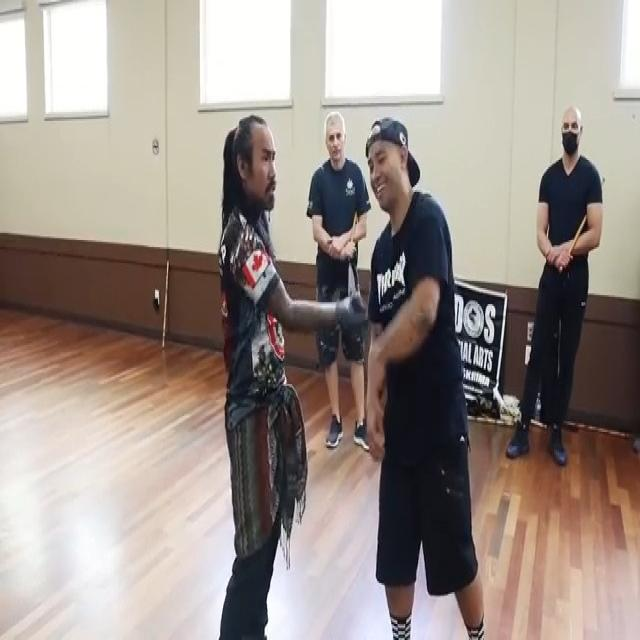Sharp-Object: (346, 264, 366, 368)
